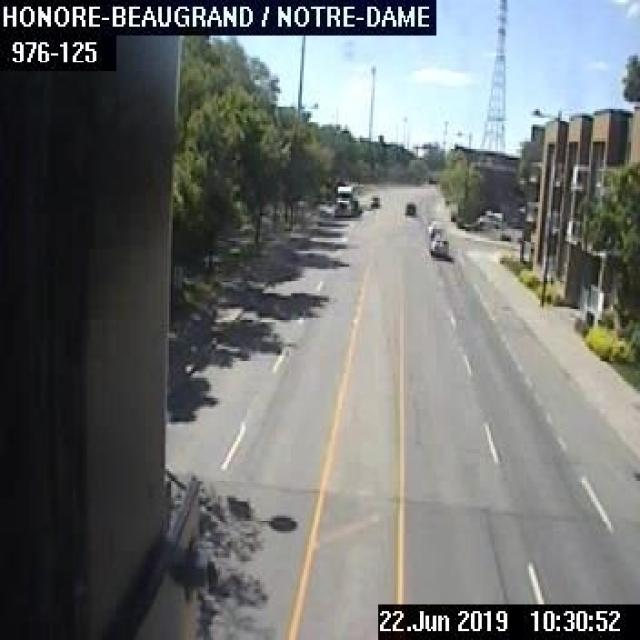vehicle: (333, 183, 357, 217), (476, 210, 504, 228), (428, 233, 447, 257), (426, 219, 444, 233), (402, 200, 414, 215), (368, 193, 378, 207)
